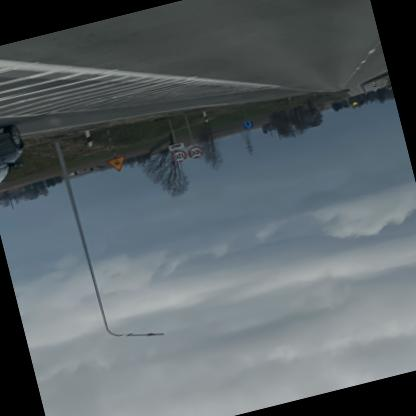speedlimit: (172, 150, 190, 166), (191, 146, 209, 160)
